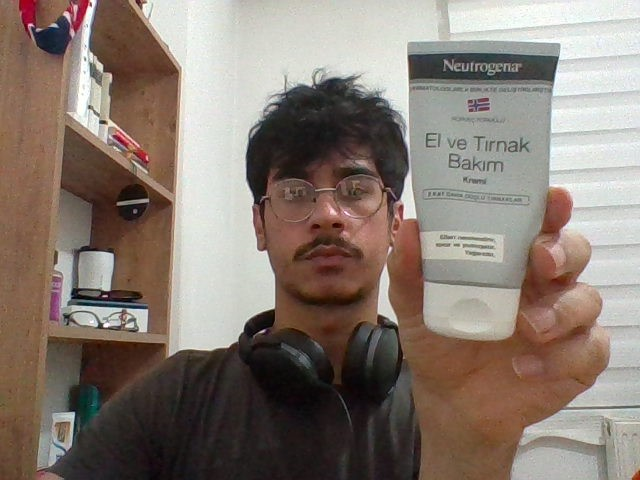Neutrogena: (407, 40, 559, 337)
